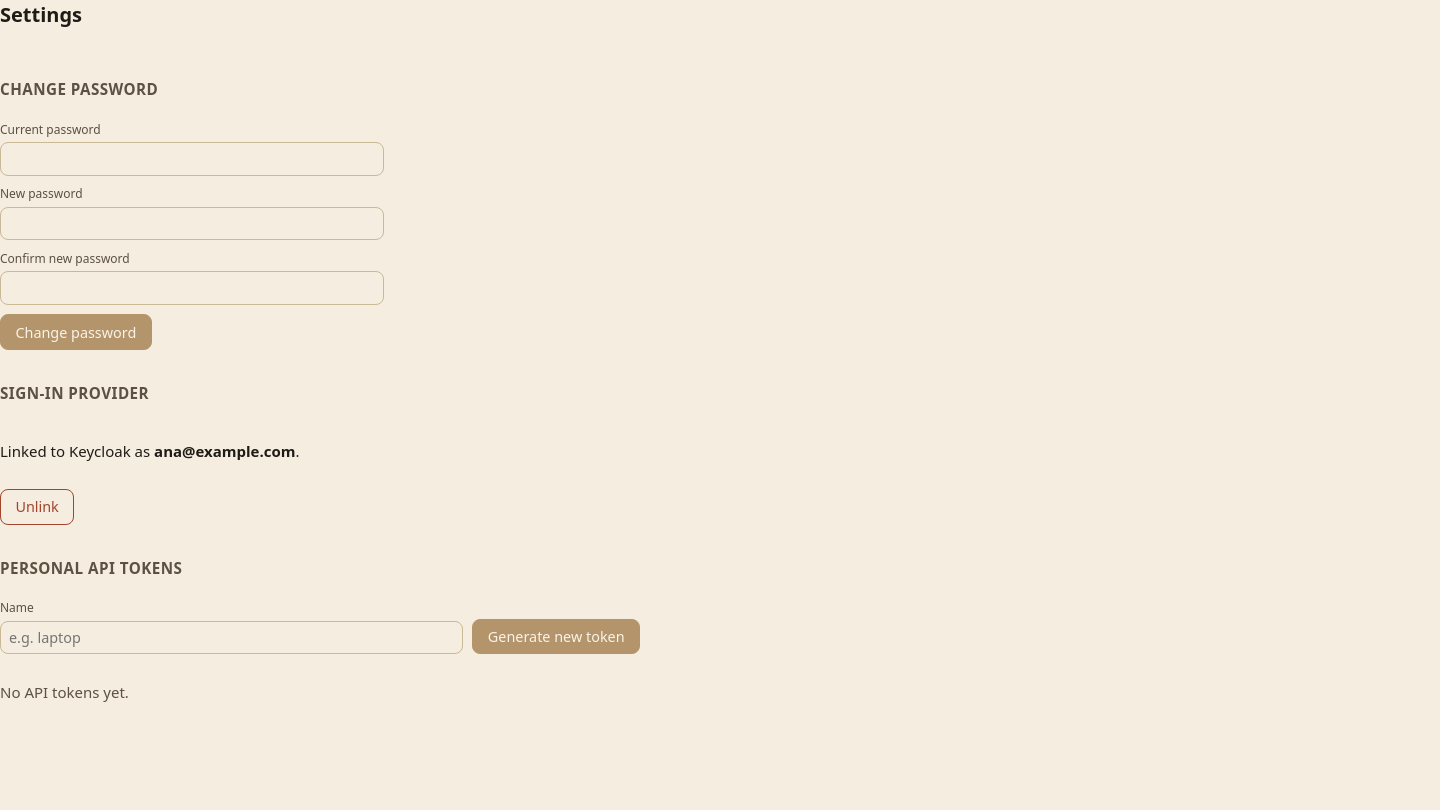
Test: SettingsPage sign-in provider section › unlinks after confirmation and reloads the identity
Click the button "Unlink": (37, 507) x1=0 y1=489 x2=74 y2=525
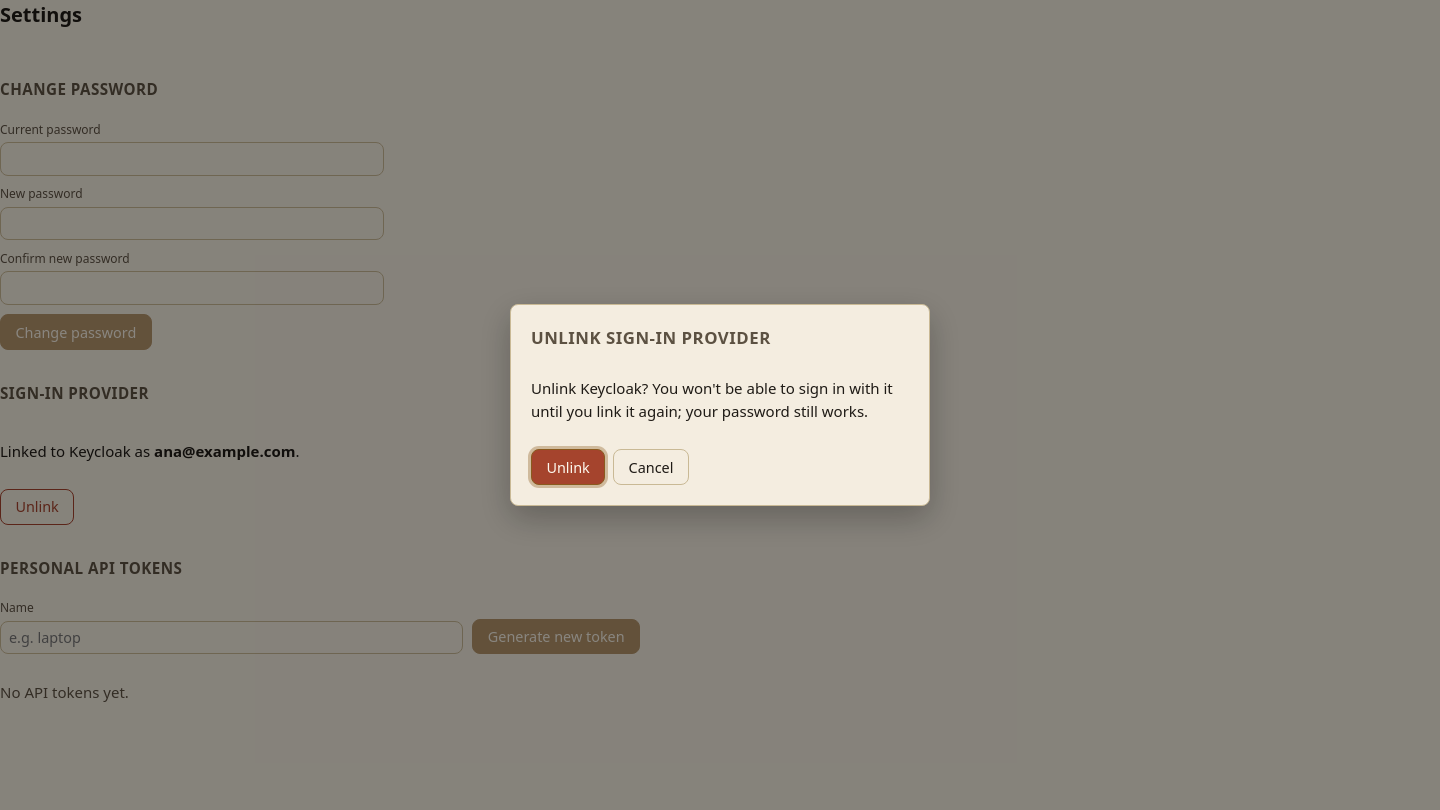
Click the button "Unlink": (568, 467) x1=531 y1=449 x2=605 y2=485
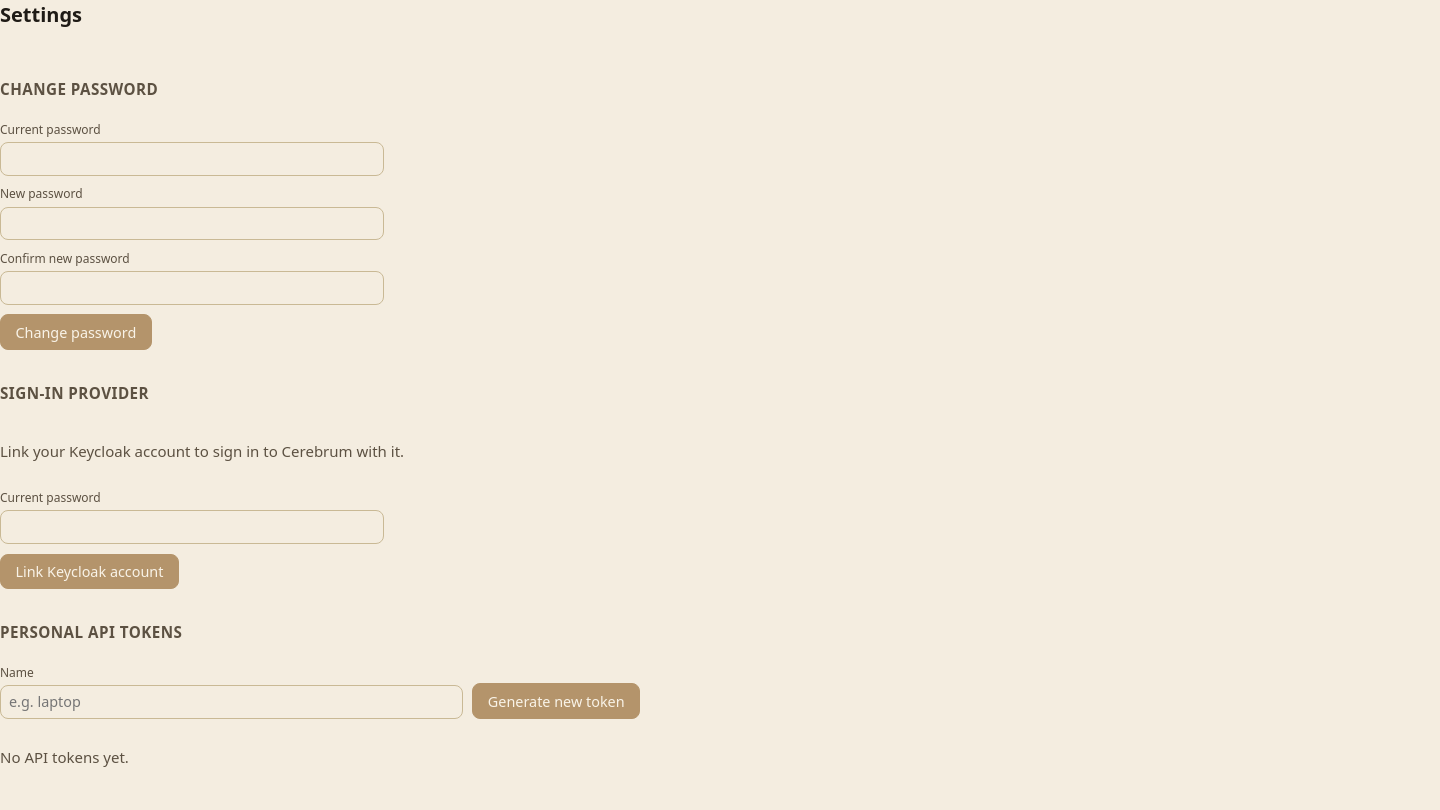
Now the button "Link Keycloak account" is shown, box x1=0 y1=554 x2=179 y2=589
Now the dialog is gone
